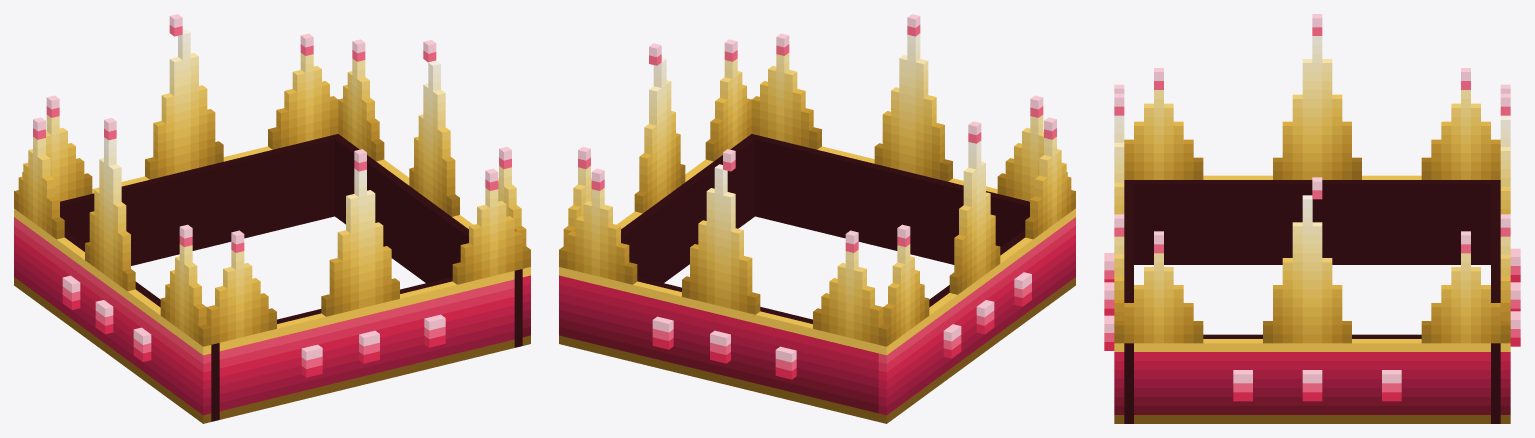
Rendered from owner_crown_hat.glb.
3 views of the same model, side by side, from view 1: azimuth 30°, elevation 25°; view 2: azimuth 150°, elevation 25°; view 3: azimuth 270°, elevation 25° (orthographic). The views are drawn at different scales.
Visible parts, largest first — view 1: Owner Crown; view 2: Owner Crown; view 3: Owner Crown.
Boxes of the visible parts, bbox=[...] form: Owner Crown: bbox=[14, 14, 530, 423]; Owner Crown: bbox=[559, 14, 1075, 423]; Owner Crown: bbox=[1104, 14, 1520, 423].
Bounding box in the file's own units: 0.6562 × 0.4219 × 0.6562.
Materials: 1 (1 with a texture image).
